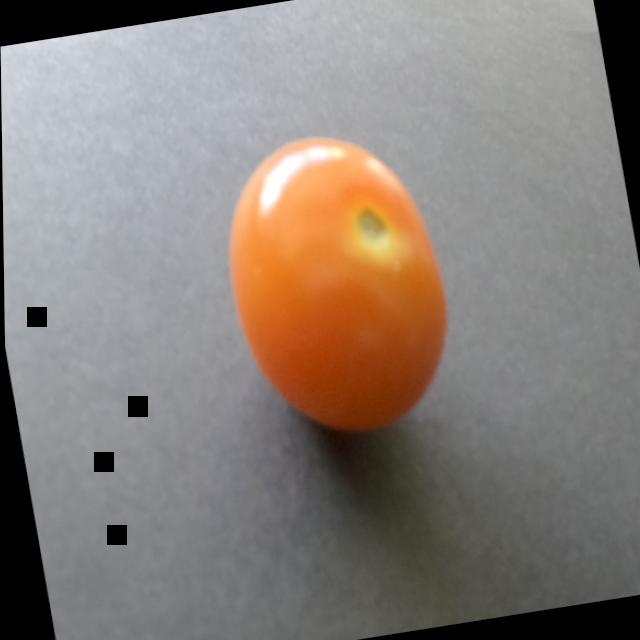Tomato: (158, 94, 499, 506)
